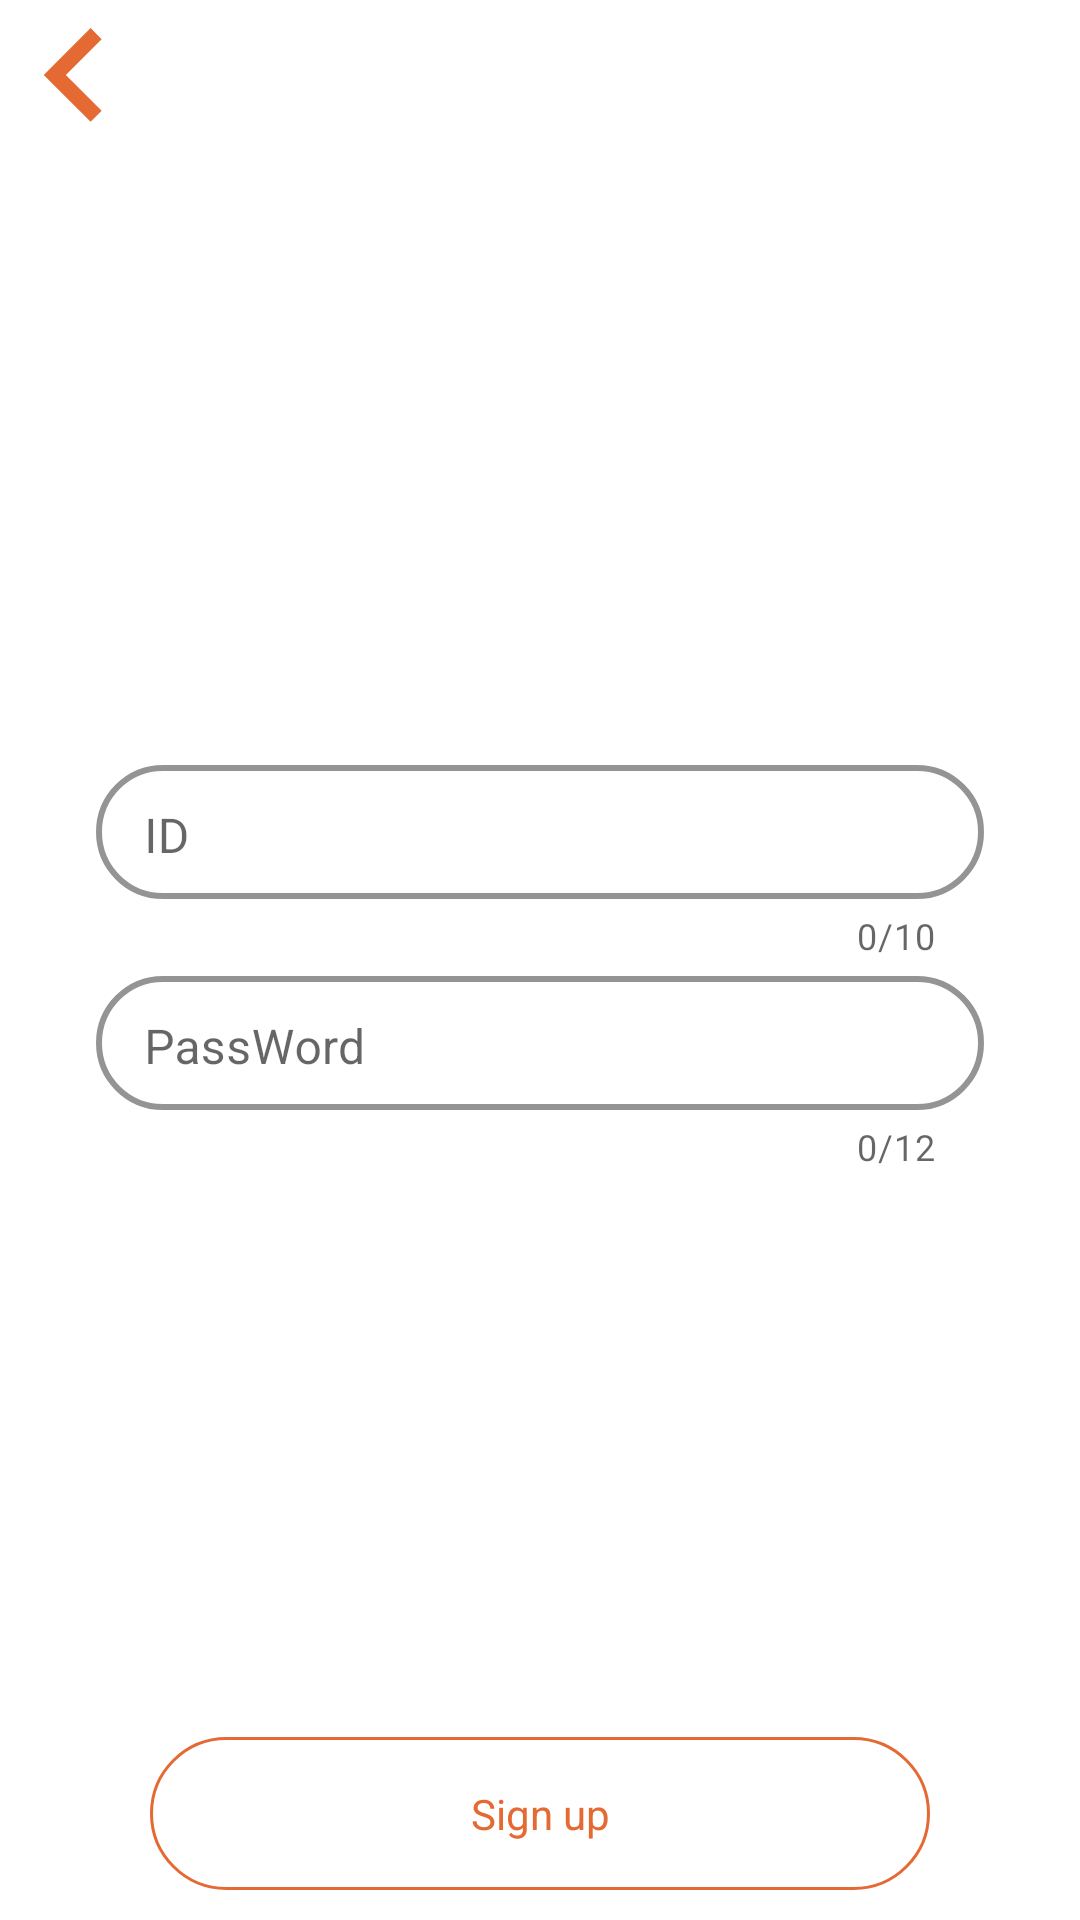

Icons on this 1080*1920 Android screen, each with the point to tap as [x,y]:
back: [73,75]
